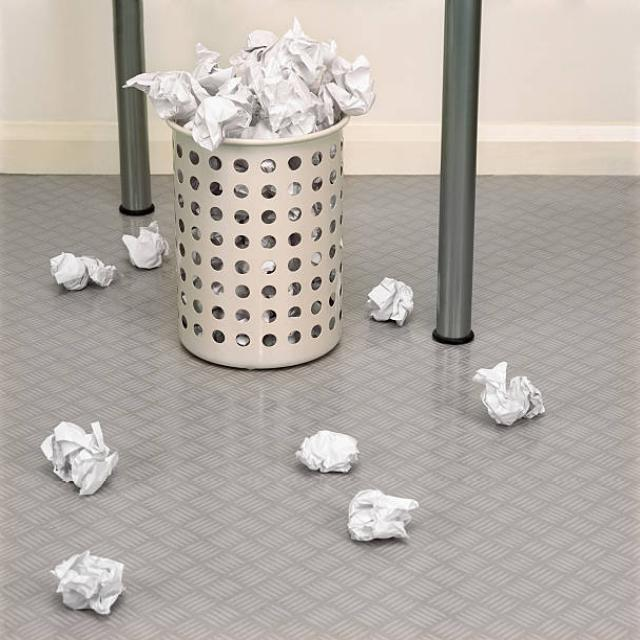electronic: (121, 16, 376, 150), (39, 419, 118, 496), (50, 549, 126, 615), (471, 360, 545, 426), (346, 488, 418, 542), (294, 428, 360, 474), (48, 251, 116, 291), (366, 276, 414, 326), (121, 220, 169, 268), (80, 254, 116, 288)
